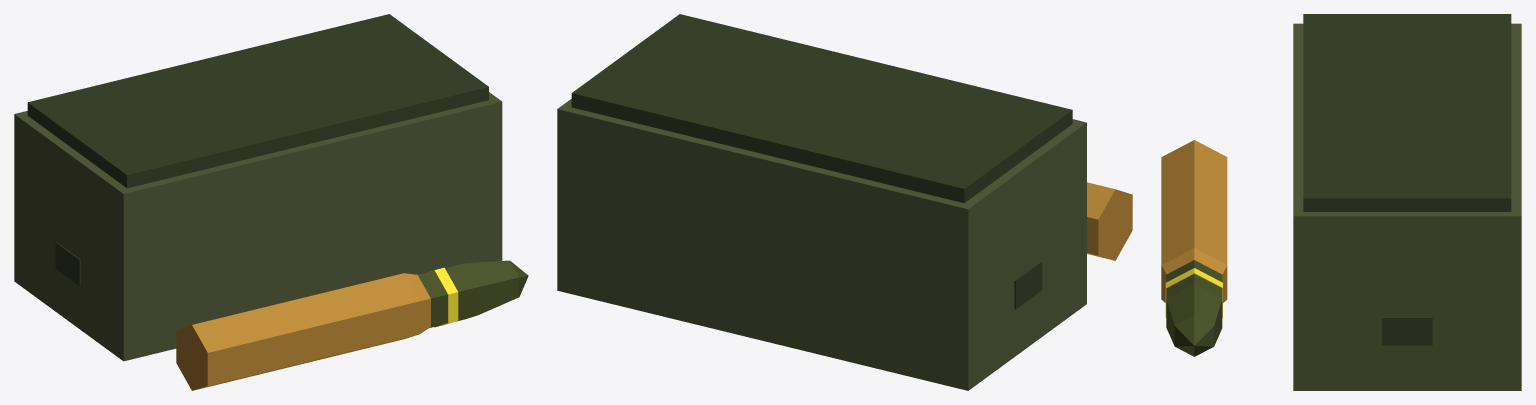
The model's file is ce_ammo_heavy_he_c.obj.
3 renders of one model, left to right at view 1: azimuth 30°, elevation 25°; view 2: azimuth 150°, elevation 25°; view 3: azimuth 270°, elevation 25°, orthographic. The views are drawn at different scales.
Visible parts, largest first — view 1: ce_ammo_heavy_he_c_0, ce_ammo_heavy_he_c_1, ce_ammo_heavy_he_c_3, ce_ammo_heavy_he_c_8, ce_ammo_heavy_he_c_7, ce_ammo_heavy_he_c_5, ce_ammo_heavy_he_c_2, ce_ammo_heavy_he_c_4, ce_ammo_heavy_he_c_6; view 2: ce_ammo_heavy_he_c_0, ce_ammo_heavy_he_c_1, ce_ammo_heavy_he_c_3, ce_ammo_heavy_he_c_2; view 3: ce_ammo_heavy_he_c_0, ce_ammo_heavy_he_c_1, ce_ammo_heavy_he_c_3, ce_ammo_heavy_he_c_8, ce_ammo_heavy_he_c_2, ce_ammo_heavy_he_c_9, ce_ammo_heavy_he_c_4, ce_ammo_heavy_he_c_7, ce_ammo_heavy_he_c_5, ce_ammo_heavy_he_c_6.
Part boxes in pixels (left/top/right/bottom): ce_ammo_heavy_he_c_0: left=14, top=92, right=502, bottom=361; ce_ammo_heavy_he_c_1: left=27, top=14, right=488, bottom=188; ce_ammo_heavy_he_c_3: left=176, top=273, right=419, bottom=390; ce_ammo_heavy_he_c_8: left=465, top=260, right=519, bottom=314; ce_ammo_heavy_he_c_7: left=445, top=263, right=478, bottom=321; ce_ammo_heavy_he_c_5: left=418, top=270, right=447, bottom=327; ce_ammo_heavy_he_c_2: left=55, top=242, right=80, bottom=286; ce_ammo_heavy_he_c_4: left=404, top=273, right=430, bottom=333; ce_ammo_heavy_he_c_6: left=428, top=267, right=458, bottom=327; ce_ammo_heavy_he_c_0: left=557, top=99, right=1086, bottom=390; ce_ammo_heavy_he_c_1: left=571, top=14, right=1072, bottom=203; ce_ammo_heavy_he_c_3: left=1087, top=182, right=1132, bottom=260; ce_ammo_heavy_he_c_2: left=1014, top=261, right=1042, bottom=309; ce_ammo_heavy_he_c_0: left=1293, top=23, right=1521, bottom=390; ce_ammo_heavy_he_c_1: left=1303, top=14, right=1511, bottom=211; ce_ammo_heavy_he_c_3: left=1161, top=140, right=1227, bottom=264; ce_ammo_heavy_he_c_8: left=1166, top=284, right=1222, bottom=345; ce_ammo_heavy_he_c_2: left=1382, top=317, right=1432, bottom=345; ce_ammo_heavy_he_c_9: left=1174, top=315, right=1214, bottom=356; ce_ammo_heavy_he_c_4: left=1161, top=248, right=1227, bottom=302; ce_ammo_heavy_he_c_7: left=1166, top=273, right=1222, bottom=298; ce_ammo_heavy_he_c_5: left=1166, top=260, right=1222, bottom=282; ce_ammo_heavy_he_c_6: left=1165, top=268, right=1222, bottom=317.
Bounding box in the file's own units: 0.906 × 0.41 × 0.71.
